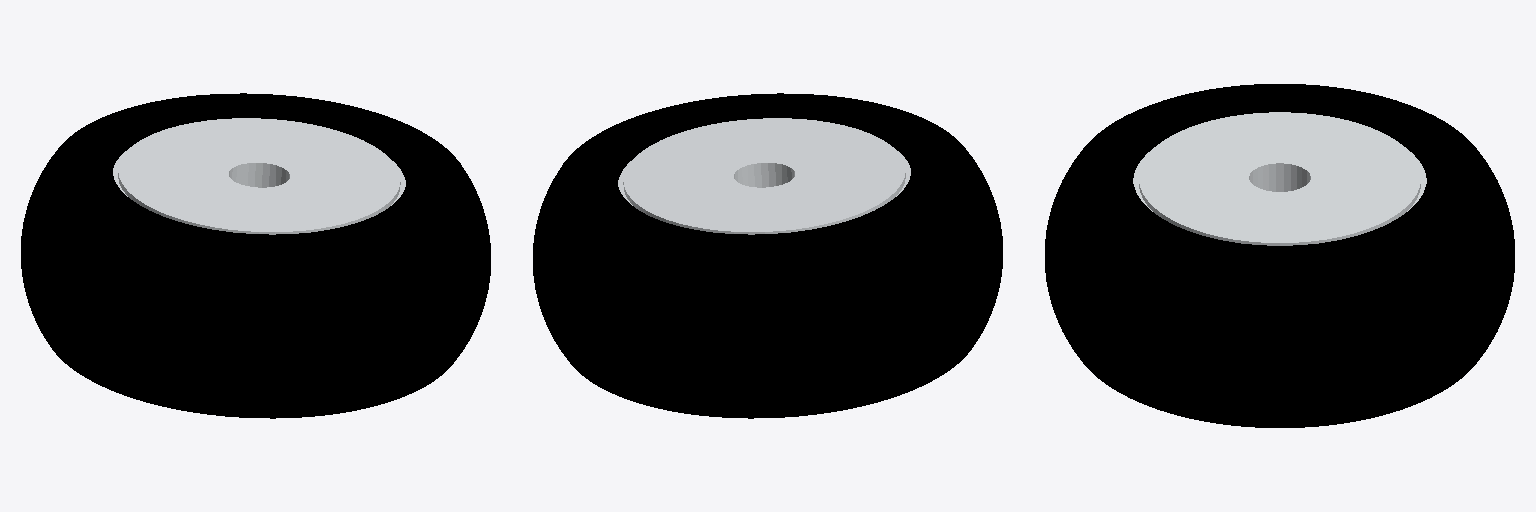
File: B_wheel_l2.obj
3 renders of one model, left to right at view 1: azimuth 30°, elevation 25°; view 2: azimuth 150°, elevation 25°; view 3: azimuth 270°, elevation 25°, orthographic.
Visible parts, largest first — view 1: Mesh_0.001_1, Mesh_0.001; view 2: Mesh_0.001_1, Mesh_0.001; view 3: Mesh_0.001_1, Mesh_0.001.
Part boxes in pixels (x1,y1,x2,y2): Mesh_0.001_1: (21,93,490,418); Mesh_0.001: (113,118,405,234); Mesh_0.001_1: (533,93,1002,418); Mesh_0.001: (618,118,910,234); Mesh_0.001_1: (1045,84,1514,427); Mesh_0.001: (1133,112,1426,245).
Size of the model in its own units: 0.08 by 0.033 by 0.0799.